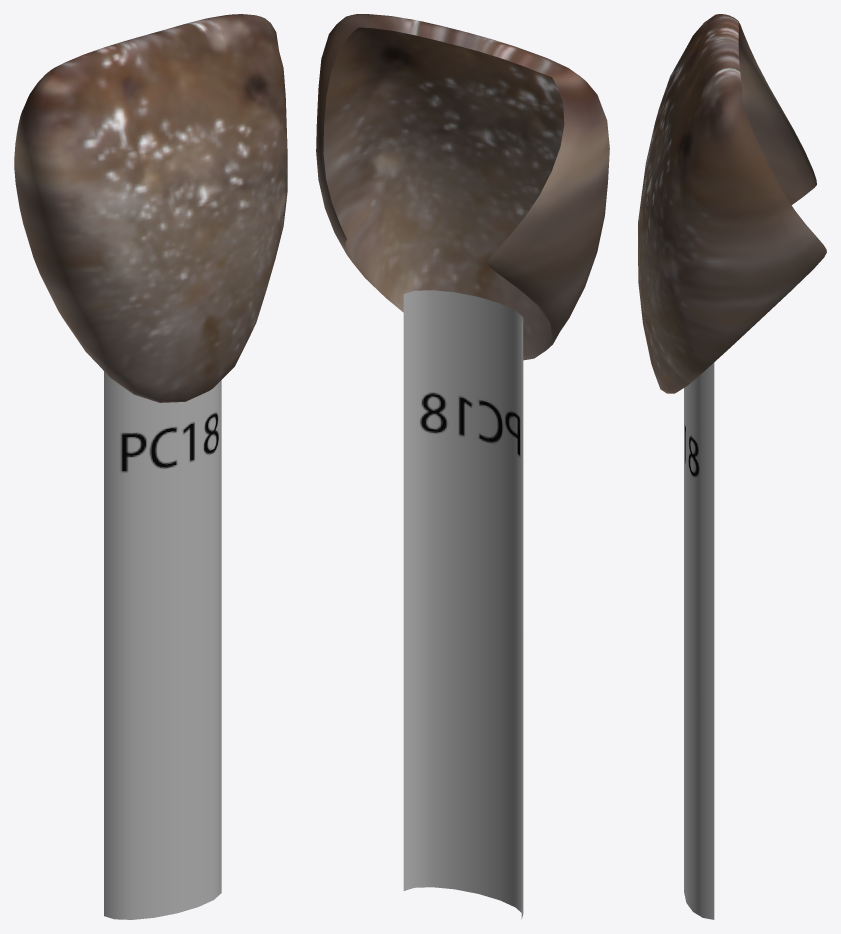
3 views of the same model, side by side, from view 1: azimuth 30°, elevation 25°; view 2: azimuth 150°, elevation 25°; view 3: azimuth 270°, elevation 25° (orthographic). The views are drawn at different scales.
Parts seen in each view (by area): view 1: Tab; view 2: Tab; view 3: Tab.
Boxes of the visible parts, left/top/right/bottom form: Tab: left=14, top=14, right=287, bottom=919; Tab: left=316, top=14, right=609, bottom=919; Tab: left=638, top=14, right=826, bottom=919.
Size of the model in its own units: 0.00866 by 0.0274 by 0.00556.
1 material, 1 textured.
